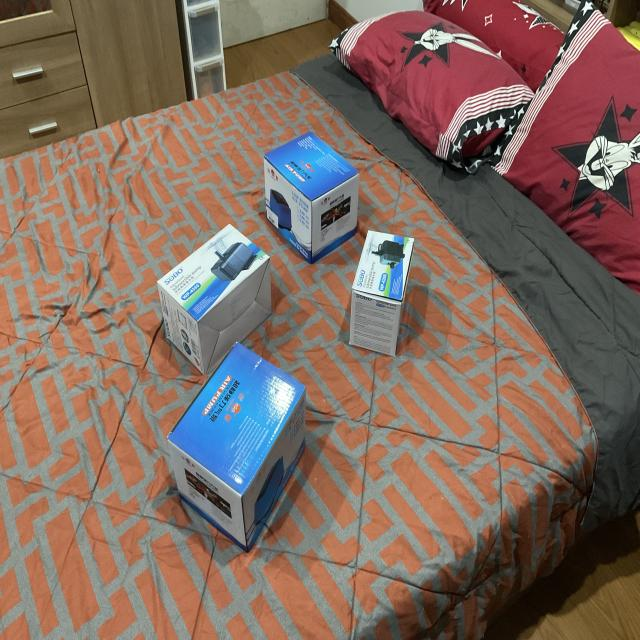SOBO_WP_4200: (149, 222, 281, 375), (341, 223, 422, 367)
YAMANO_LPP_20: (160, 346, 327, 559), (259, 124, 367, 266)
